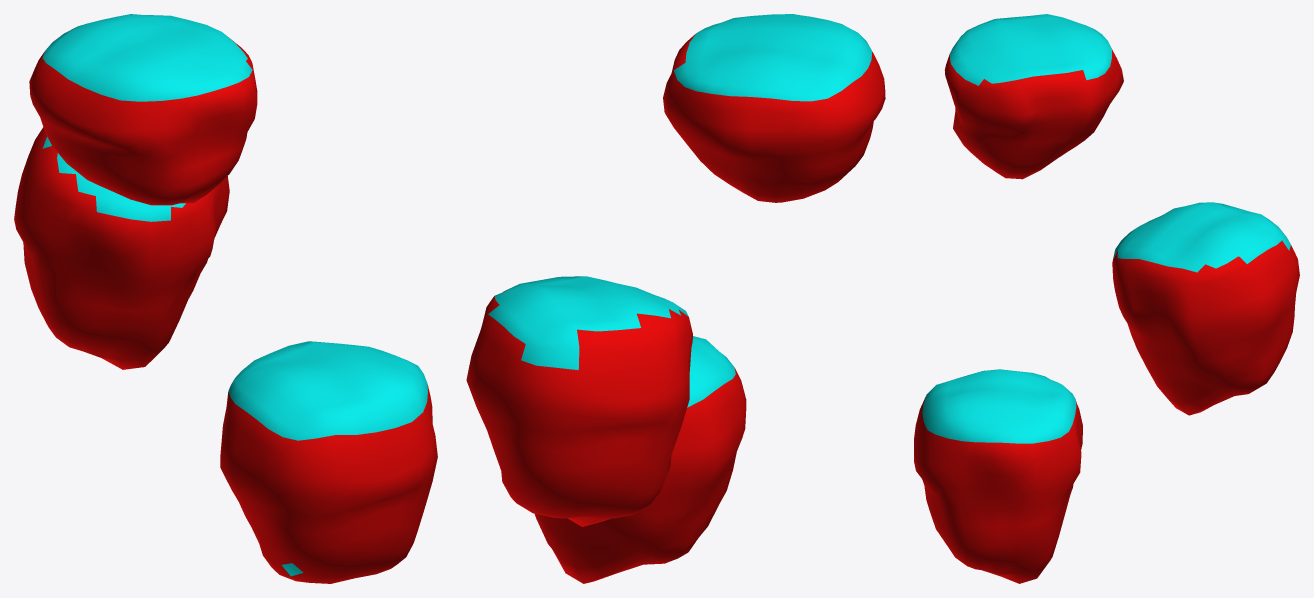
The model's file is RockCatTree.fbx.
3 views of the same model, side by side, from view 1: azimuth 30°, elevation 25°; view 2: azimuth 150°, elevation 25°; view 3: azimuth 270°, elevation 25° (orthographic). The views are drawn at different scales.
Parts seen in each view (by area): view 1: rock3, rock2, rock1; view 2: rock1, rock2, rock3; view 3: rock1, rock3, rock2.
Part boxes in pixels (x1=…): rock3: x1=220, y1=341, x2=437, y2=583; rock2: x1=29, y1=14, x2=257, y2=205; rock1: x1=14, y1=127, x2=229, y2=369; rock1: x1=466, y1=276, x2=692, y2=526; rock2: x1=663, y1=14, x2=885, y2=202; rock3: x1=534, y1=336, x2=746, y2=583; rock1: x1=1112, y1=202, x2=1299, y2=415; rock3: x1=914, y1=369, x2=1082, y2=583; rock2: x1=944, y1=14, x2=1123, y2=179.
Size of the model in its own units: 168 by 259 by 192.
